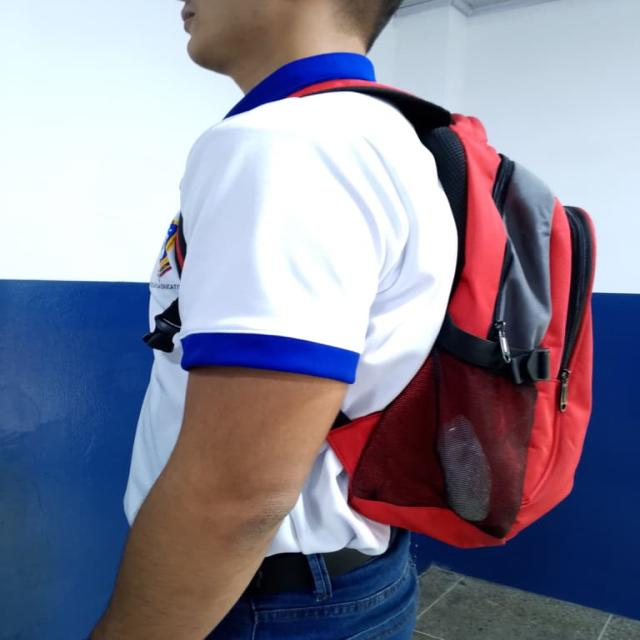uniforme_superior: (122, 51, 457, 555)
